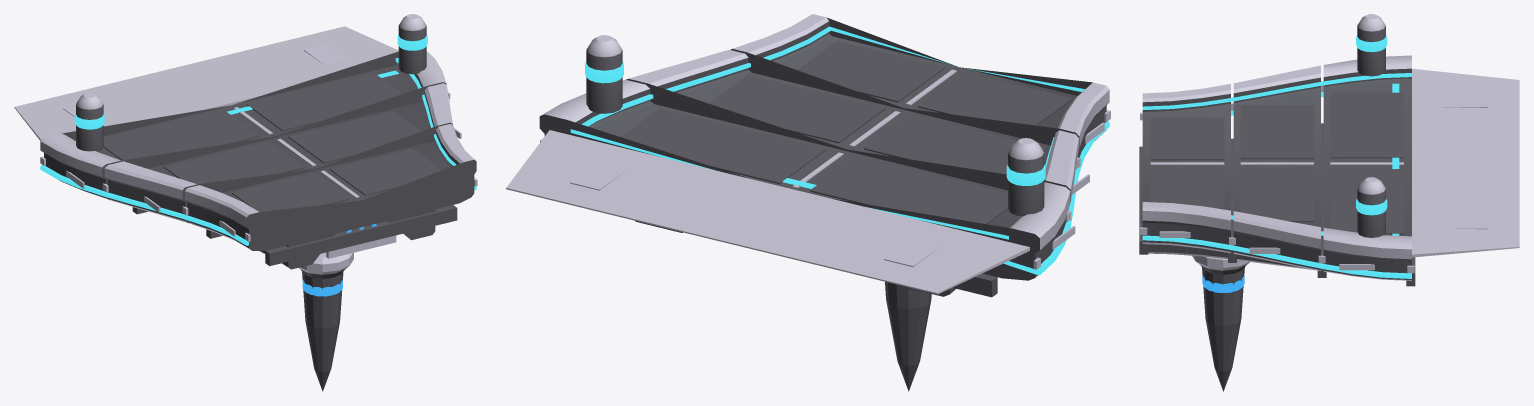
Rendered from Bridge_Landing_quest.glb.
3 renders of one model, left to right at view 1: azimuth 30°, elevation 25°; view 2: azimuth 150°, elevation 25°; view 3: azimuth 270°, elevation 25°, orthographic. The views are drawn at different scales.
Parts seen in each view (by area): view 1: Bridge_Landing_Deck, Bridge_Landing_Pylons, Bridge_Landing_EdgeLight, Bridge_Landing_Conduits; view 2: Bridge_Landing_Deck, Bridge_Landing_EdgeLight, Bridge_Landing_Pylons; view 3: Bridge_Landing_Deck, Bridge_Landing_Pylons, Bridge_Landing_EdgeLight, Bridge_Landing_Conduits.
Part boxes in pixels (x1,y1,x2,y2): Bridge_Landing_Deck: [14, 14, 477, 269]; Bridge_Landing_Pylons: [299, 252, 353, 391]; Bridge_Landing_EdgeLight: [40, 34, 476, 245]; Bridge_Landing_Conduits: [302, 224, 376, 296]; Bridge_Landing_Deck: [506, 14, 1110, 297]; Bridge_Landing_EdgeLight: [570, 26, 1109, 275]; Bridge_Landing_Pylons: [885, 282, 931, 391]; Bridge_Landing_Deck: [1139, 14, 1519, 286]; Bridge_Landing_Pylons: [1192, 255, 1249, 391]; Bridge_Landing_EdgeLight: [1142, 35, 1411, 278]; Bridge_Landing_Conduits: [1202, 275, 1244, 292].
Bounding box in the file's own units: 5.1 × 3.61 × 4.24.
